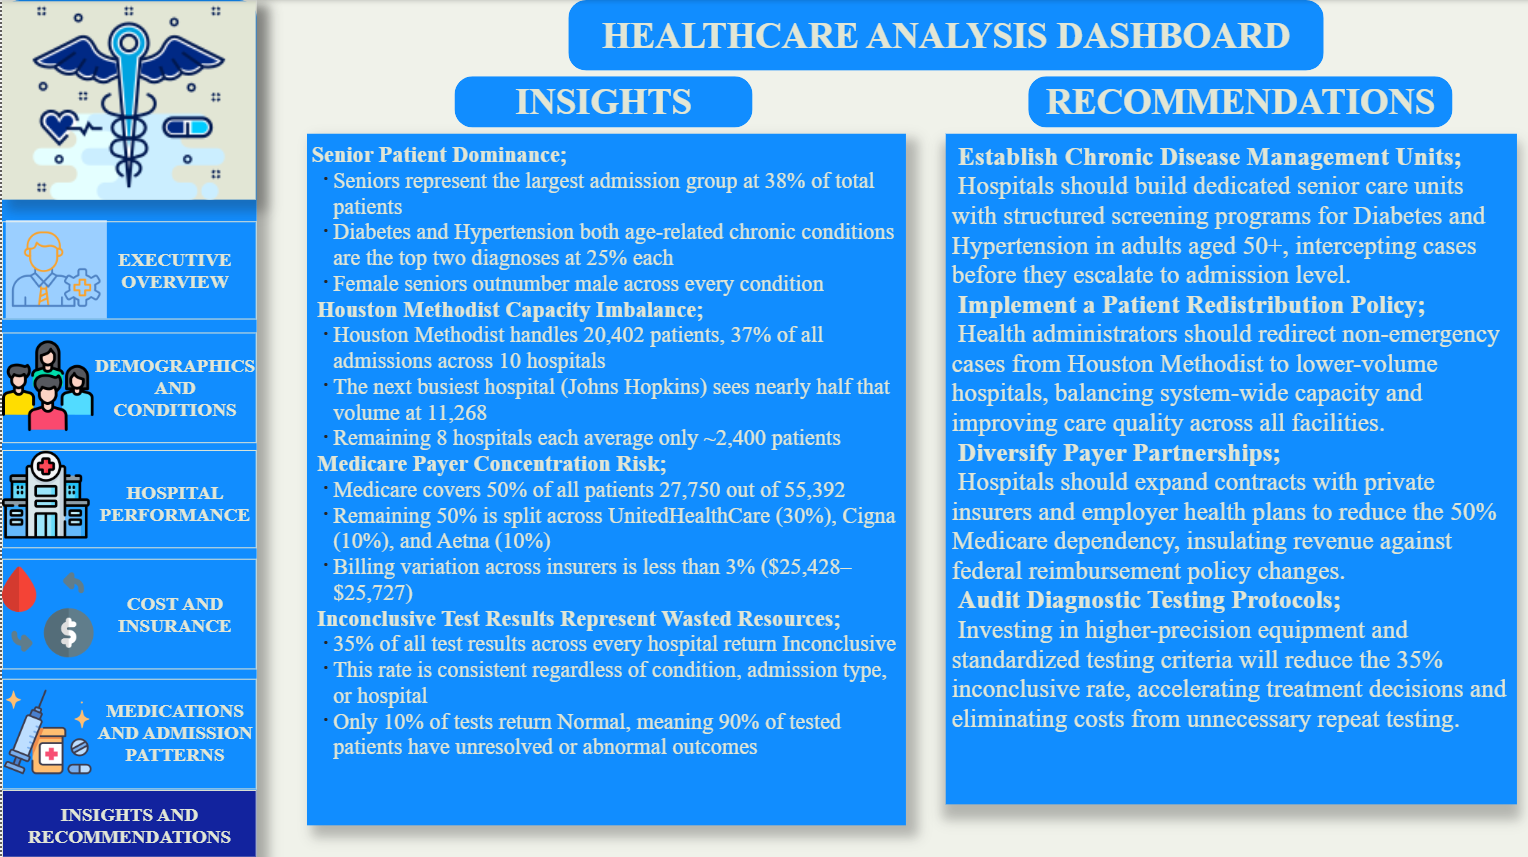

What the dashboard file says about the page in this screenshot:
{"tool":"powerbi","page":{"name":"Page 6","canvas":[1280,720],"ordinal":5},"visuals":[{"type":"group","id":"g1","title":"Group 1","box":[0,0,214,720.9],"z":0},{"type":"shape","box":[0,0,214,720.9],"z":0,"group":"g5"},{"type":"shape","box":[256.3,112.1,502.3,580.2],"z":0,"group":"g3"},{"type":"shape","box":[792.1,112.1,479.1,562.8],"z":0,"group":"g4"},{"type":"group","id":"g2","title":"Group 9","box":[0,662.8,214,57],"z":1000},{"type":"group","id":"g3","title":"Group 2","box":[254.7,112.1,503.9,580.2],"z":2000},{"type":"shape","box":[474.4,0,633.7,59.3],"z":3000},{"type":"textbox","box":[791.9,114.6,479.1,568.6],"z":3000,"group":"g4"},{"type":"group","id":"g4","title":"Group 3","box":[791.9,112.1,479.2,571.1],"z":4000},{"type":"textbox","box":[254.7,114.6,503,568.6],"z":4000,"group":"g3"},{"type":"shape","box":[379.1,64,250,43],"z":5000},{"type":"shape","box":[860.5,64,355.8,43],"z":6000},{"type":"group","id":"g5","title":"Group 10","box":[0,0,214,720.9],"z":7000,"group":"g1"},{"type":"group","id":"g6","title":"Group 7","box":[0,184.4,214,83.3],"z":8000,"group":"g1"},{"type":"shape","box":[0,279.2,214,93],"z":16000,"group":"g8"},{"type":"group","id":"g7","title":"Group 8","box":[0,369.6,214,89.5],"z":16000,"group":"g5"},{"type":"shape","box":[0,468.8,214,93],"z":16000,"group":"g9"},{"type":"shape","box":[0,569.6,214,93],"z":16000,"group":"g10"},{"type":"shape","box":[0,662.8,214,57],"z":16000,"group":"g2"},{"type":"group","id":"g8","title":"Group 9","box":[0,279.2,214,93],"z":17000,"group":"g5"},{"type":"group","id":"g9","title":"Group 9","box":[0,468.8,214,93],"z":18000,"group":"g5"},{"type":"shape","box":[0,185.2,214,82.6],"z":18500,"group":"g6"},{"type":"group","id":"g10","title":"Group 9","box":[0,569.6,214,93],"z":19000,"group":"g5"},{"type":"shape","box":[0,376.5,214,82.6],"z":19500,"group":"g7"},{"type":"image","box":[0,1.2,212.8,166.3],"z":20000,"group":"g5"},{"type":"shape","box":[76.7,185.1,137.2,82.6],"z":21500,"group":"g6"},{"type":"image","box":[3.5,184.4,84.9,82.6],"z":22000,"group":"g6"},{"type":"image","box":[0,369.6,73.3,89.5],"z":23000,"group":"g7"},{"type":"shape","box":[76.7,385.2,137.2,73.3],"z":26500,"group":"g7"},{"type":"image","box":[0,280.3,76.7,87.2],"z":27001,"group":"g8"},{"type":"image","box":[0,469.9,76.7,87.2],"z":27001,"group":"g9"},{"type":"image","box":[0,570.7,76.7,87.2],"z":27001,"group":"g10"},{"type":"shape","box":[76.7,280.1,137.2,90.7],"z":27501,"group":"g8"},{"type":"shape","box":[76.7,470.2,137.2,90.7],"z":27501,"group":"g9"},{"type":"shape","box":[76.7,570.8,137.2,89.5],"z":27501,"group":"g10"},{"type":"shape","box":[0,666.5,214,51.2],"z":27501,"group":"g2"}]}

Visuals, with their boxes in screenshot pixels (x1, y1, x2, y2), scaled from the page's 1280x720 canvas onto the 1528x857 screenshot:
"Group 1" group: rect(0, 0, 255, 856)
shape: rect(0, 0, 255, 856)
shape: rect(306, 133, 906, 824)
shape: rect(946, 133, 1517, 803)
"Group 9" group: rect(0, 789, 255, 856)
"Group 2" group: rect(304, 133, 906, 824)
shape: rect(566, 0, 1323, 71)
textbox: rect(945, 136, 1517, 813)
"Group 3" group: rect(945, 133, 1517, 813)
textbox: rect(304, 136, 905, 813)
shape: rect(453, 76, 751, 127)
shape: rect(1027, 76, 1452, 127)
"Group 10" group: rect(0, 0, 255, 856)
"Group 7" group: rect(0, 219, 255, 319)
shape: rect(0, 332, 255, 443)
"Group 8" group: rect(0, 440, 255, 546)
shape: rect(0, 558, 255, 669)
shape: rect(0, 678, 255, 789)
shape: rect(0, 789, 255, 856)
"Group 9" group: rect(0, 332, 255, 443)
"Group 9" group: rect(0, 558, 255, 669)
shape: rect(0, 220, 255, 319)
"Group 9" group: rect(0, 678, 255, 789)
shape: rect(0, 448, 255, 546)
image: rect(0, 1, 254, 199)
shape: rect(92, 220, 255, 319)
image: rect(4, 219, 106, 318)
image: rect(0, 440, 88, 546)
shape: rect(92, 458, 255, 546)
image: rect(0, 334, 92, 437)
image: rect(0, 559, 92, 663)
image: rect(0, 679, 92, 783)
shape: rect(92, 333, 255, 441)
shape: rect(92, 560, 255, 668)
shape: rect(92, 679, 255, 786)
shape: rect(0, 793, 255, 854)
